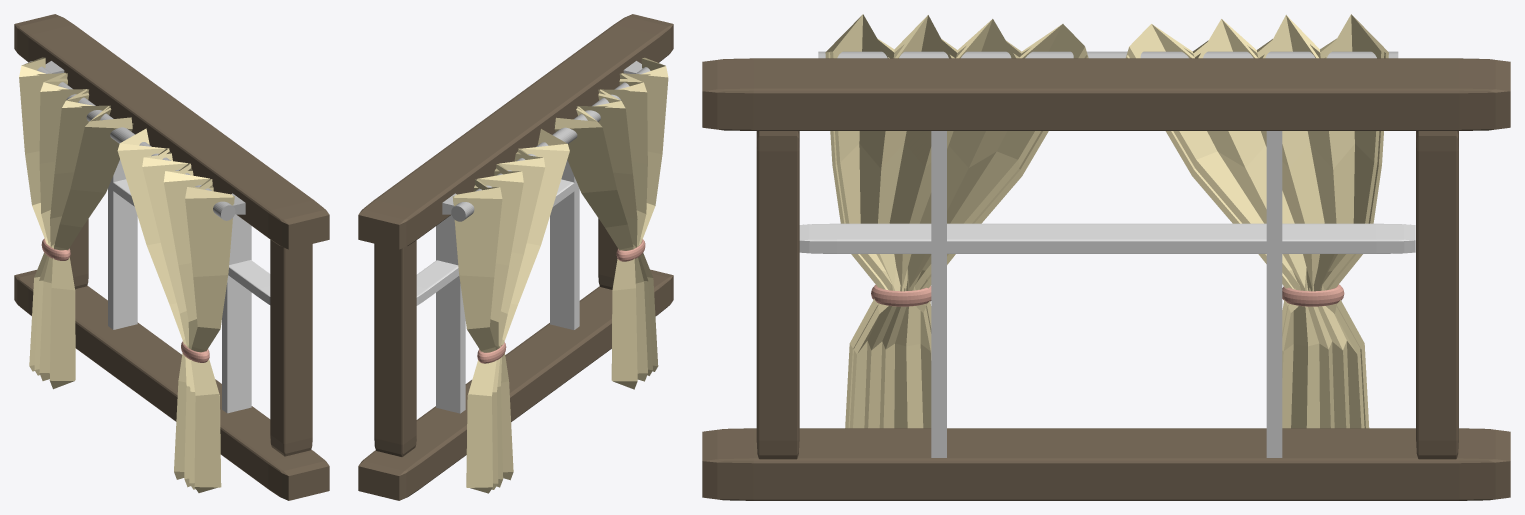
The model's file is WindowBigYellow.fbx.
3 views of the same model, side by side, from view 1: azimuth 30°, elevation 25°; view 2: azimuth 150°, elevation 25°; view 3: azimuth 270°, elevation 25° (orthographic). The views are drawn at different scales.
Visible parts, largest first — view 1: Plane, Cube.007, Cube.008, Cube.010, Cube.012, Cube.013, Cube.011, Cylinder, Cube.009; view 2: Plane, Cube.007, Cube.008, Cube.009, Cube.013, Cube.012, Cube.011, Cylinder, Cube.010; view 3: Plane, Cube.007, Cube.008, Cube.011, Cube.010, Cube.009, Cube.013, Cube.012, Cylinder, Torus.001, Torus.
Part boxes in pixels (x1,y1,x2,y2): Plane: [19, 57, 234, 492]; Cube.007: [14, 14, 329, 249]; Cube.008: [14, 270, 329, 500]; Cube.010: [270, 239, 312, 456]; Cube.012: [222, 214, 251, 413]; Cube.013: [108, 159, 137, 329]; Cube.011: [108, 179, 270, 304]; Cylinder: [28, 61, 235, 220]; Cube.009: [69, 219, 88, 288]; Plane: [452, 57, 668, 493]; Cube.007: [358, 14, 673, 249]; Cube.008: [358, 269, 673, 500]; Cube.009: [374, 240, 416, 456]; Cube.013: [436, 215, 465, 413]; Cube.012: [550, 160, 579, 329]; Cube.011: [416, 179, 578, 305]; Cylinder: [451, 67, 650, 221]; Cube.010: [598, 218, 617, 289]; Plane: [825, 14, 1388, 428]; Cube.007: [702, 58, 1510, 130]; Cube.008: [702, 428, 1510, 500]; Cube.011: [799, 223, 1415, 253]; Cube.010: [756, 131, 799, 459]; Cube.009: [1416, 131, 1458, 459]; Cube.013: [1266, 131, 1282, 457]; Cube.012: [931, 131, 946, 457]; Cylinder: [818, 51, 1398, 58]; Torus.001: [1282, 284, 1344, 306]; Torus: [871, 285, 931, 306].
Size of the model in its own units: 272 by 862 by 1379.
